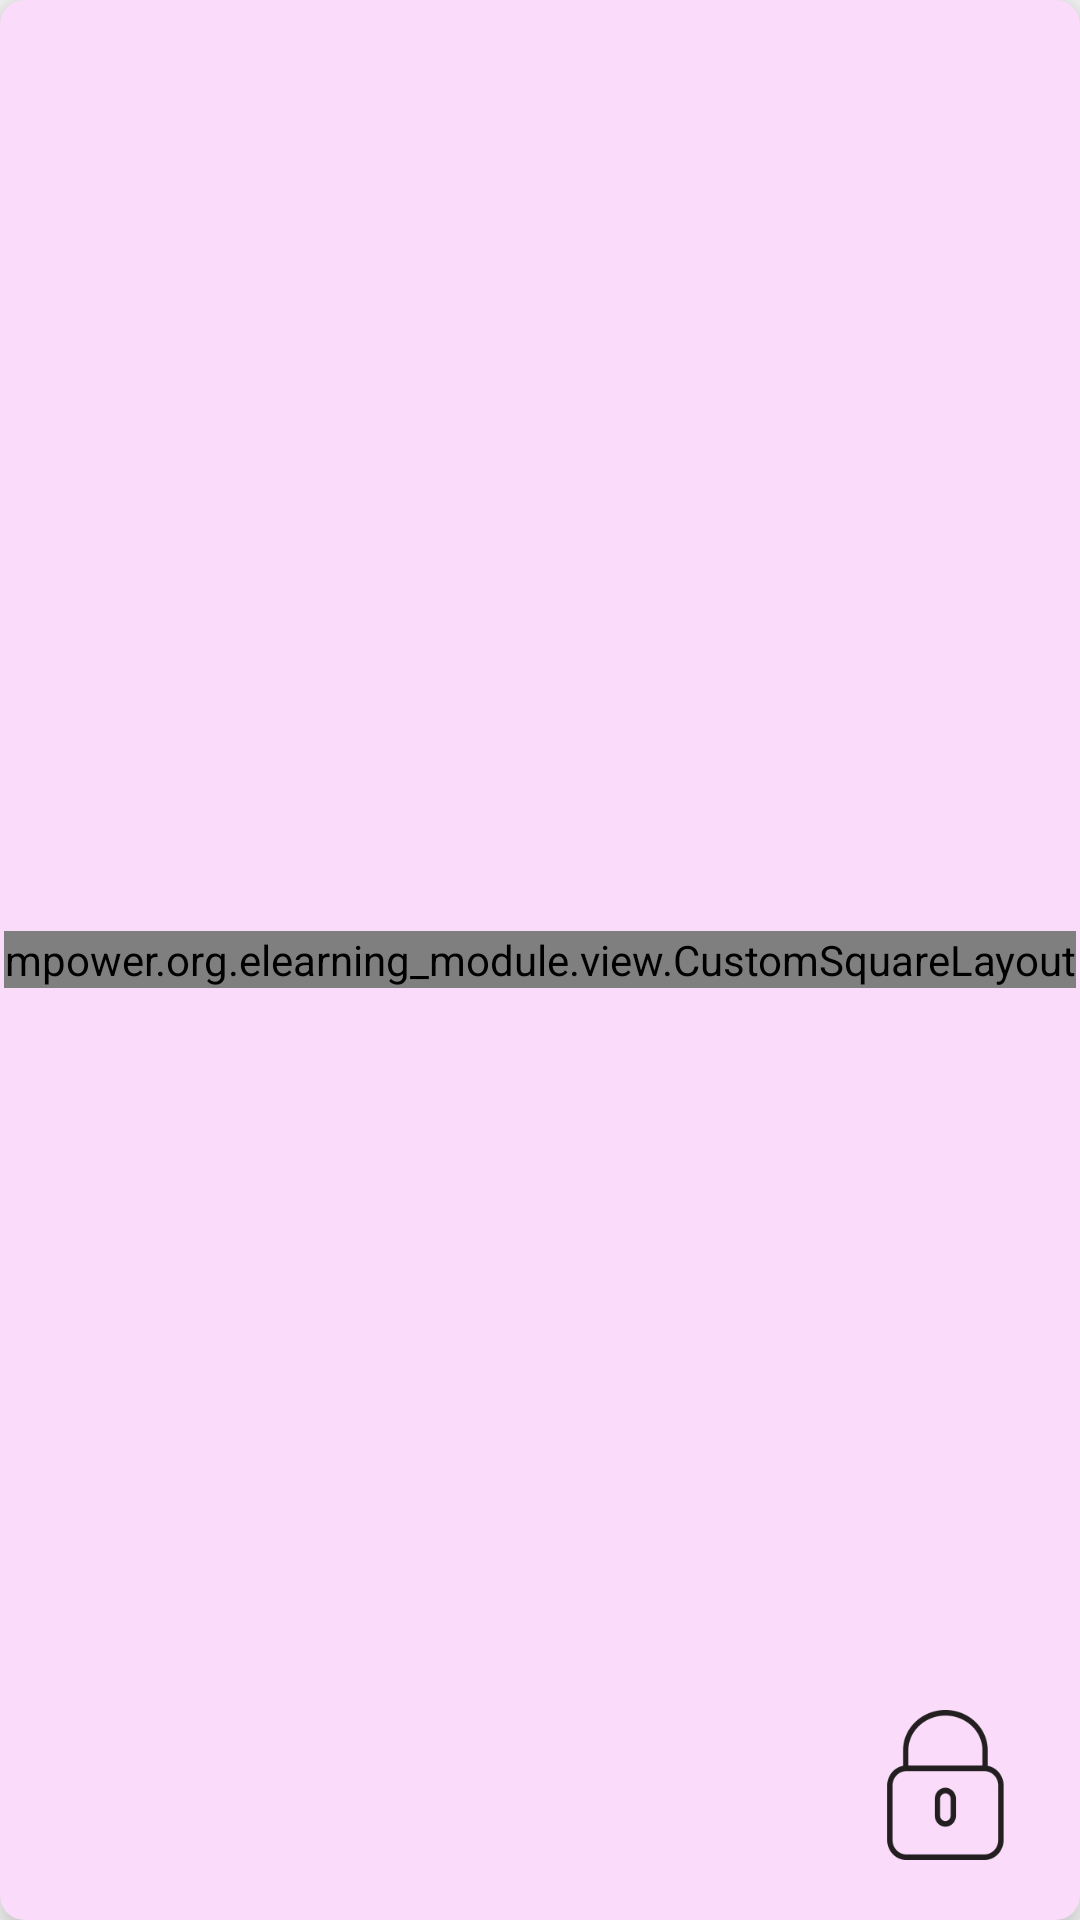

Screen size 1080 × 1920. Icon name, then its center in pixels as (x,y):
lock: (945,1785)
